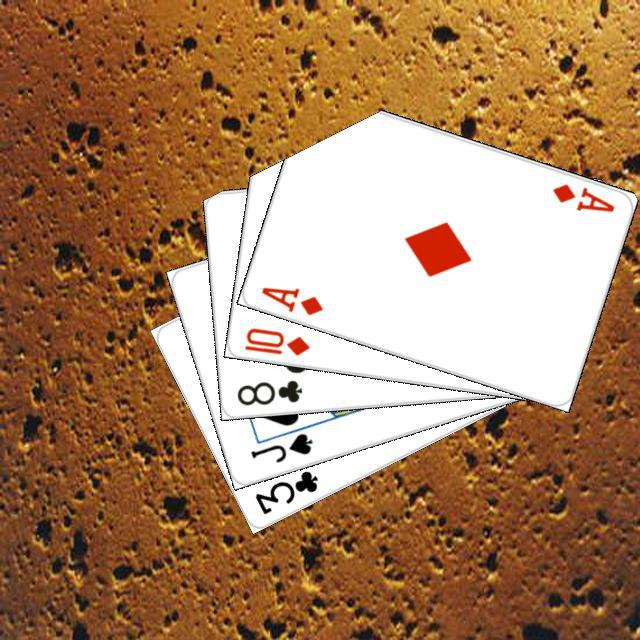10d: (239, 323, 311, 358)
3c: (250, 465, 320, 517)
8c: (232, 375, 304, 408)
Ad: (256, 281, 325, 318), (547, 178, 616, 214)
Js: (245, 428, 314, 464)
